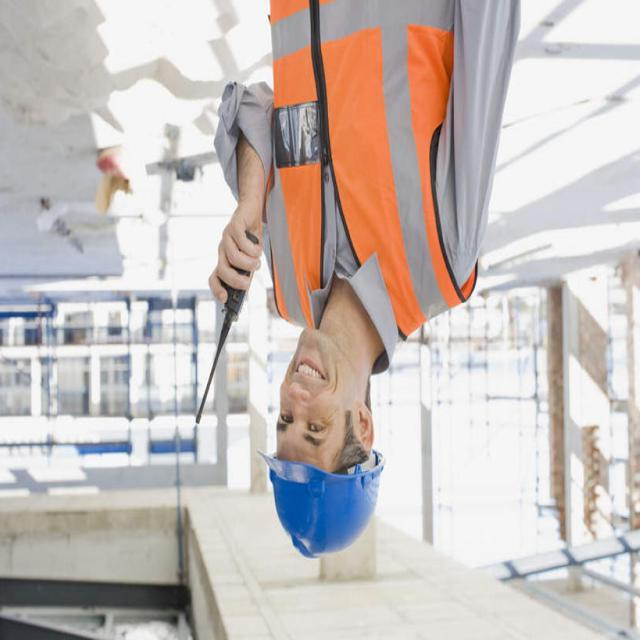safetyhelmet: (258, 412, 395, 558)
